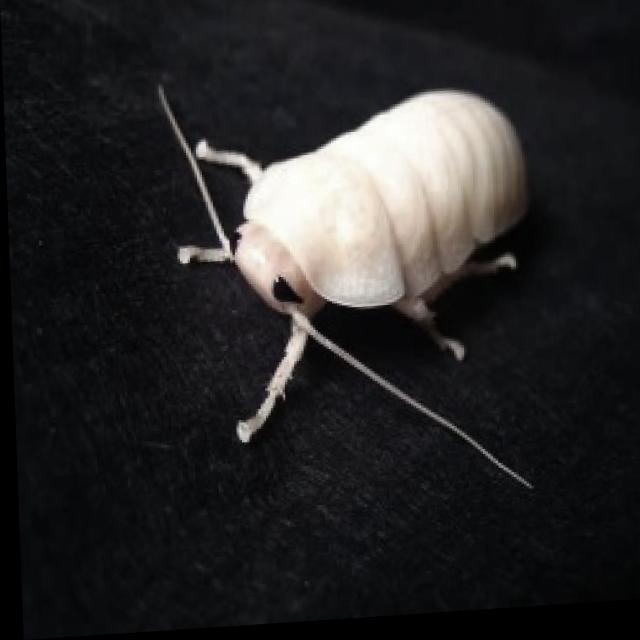cockroach: (150, 77, 543, 495)
